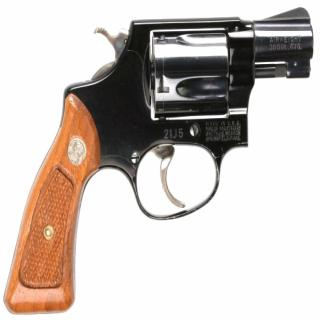gun: (4, 2, 317, 296)
